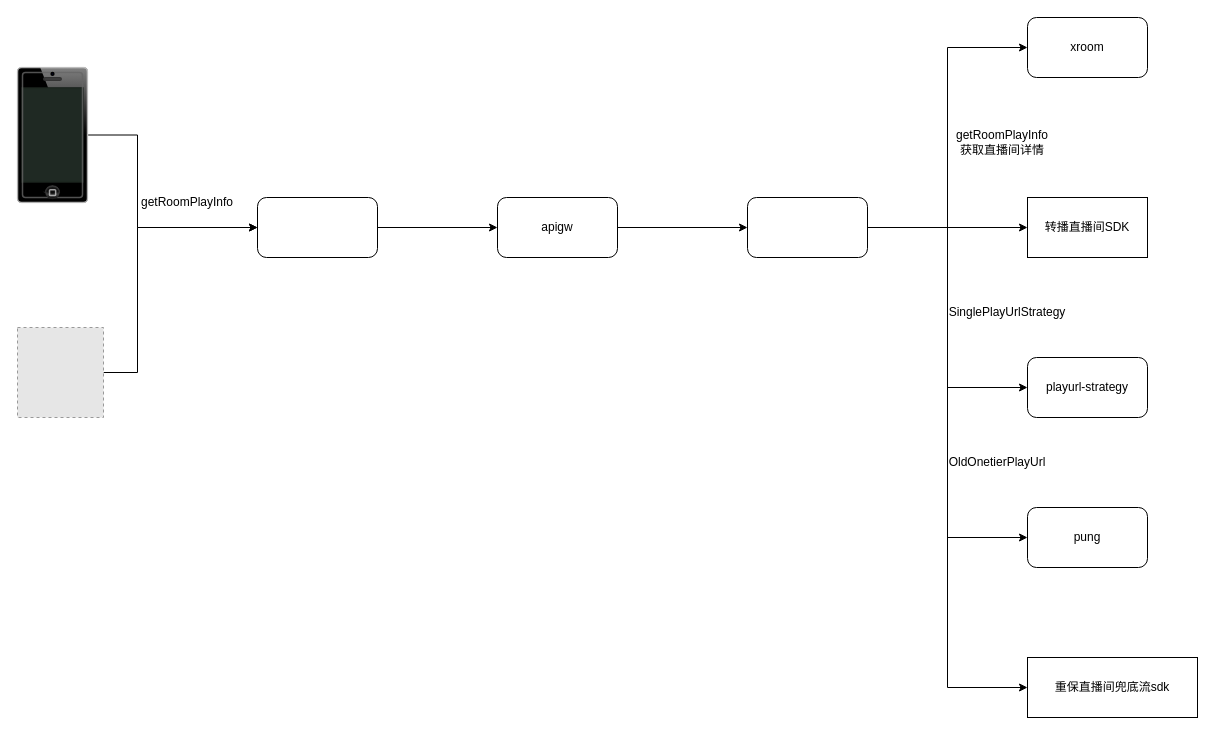
Image size: 1215x735. Some labels were removed from this diagram. Grey dashed boxes stand in for pictures. The box of each missing label's shape, as (x1, y1, x2, y2) in pixels:
app/web-room: (746, 196, 868, 258)
slb: (256, 196, 378, 258)
